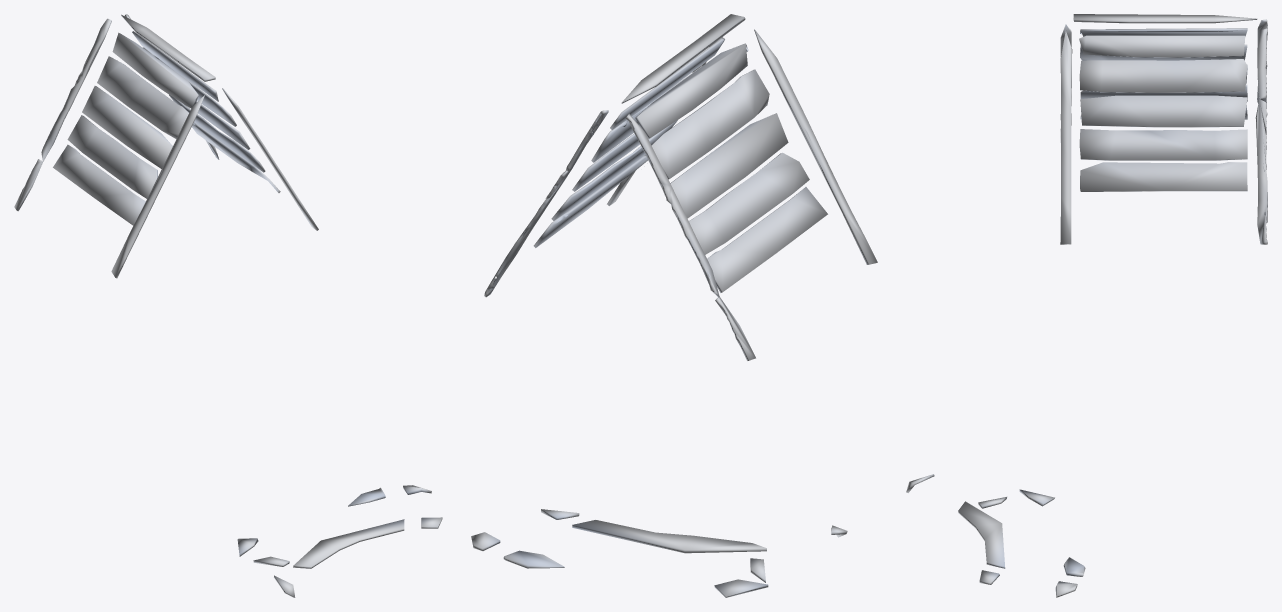
The model's file is protocol.curve.snow.glb.
3 renders of one model, left to right at view 1: azimuth 30°, elevation 25°; view 2: azimuth 150°, elevation 25°; view 3: azimuth 270°, elevation 25°, orthographic. The views are drawn at different scales.
Parts seen in each view (by area): view 1: building.protocol.curve.snow.mesh; view 2: building.protocol.curve.snow.mesh; view 3: building.protocol.curve.snow.mesh.
Part boxes in pixels (<box>): building.protocol.curve.snow.mesh: <box>14,14,442,597</box>; building.protocol.curve.snow.mesh: <box>471,14,877,597</box>; building.protocol.curve.snow.mesh: <box>906,14,1267,597</box>.
Size of the model in its own units: 8.75 by 12.21 by 8.4.
